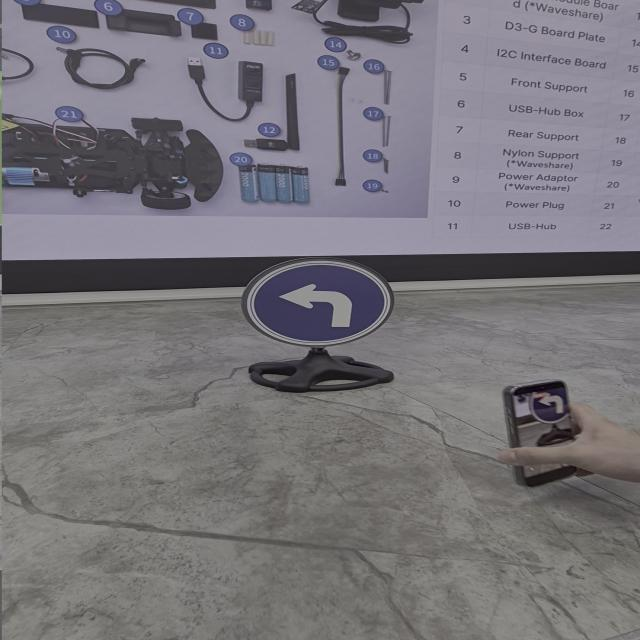left_direction: (225, 254, 413, 353)
